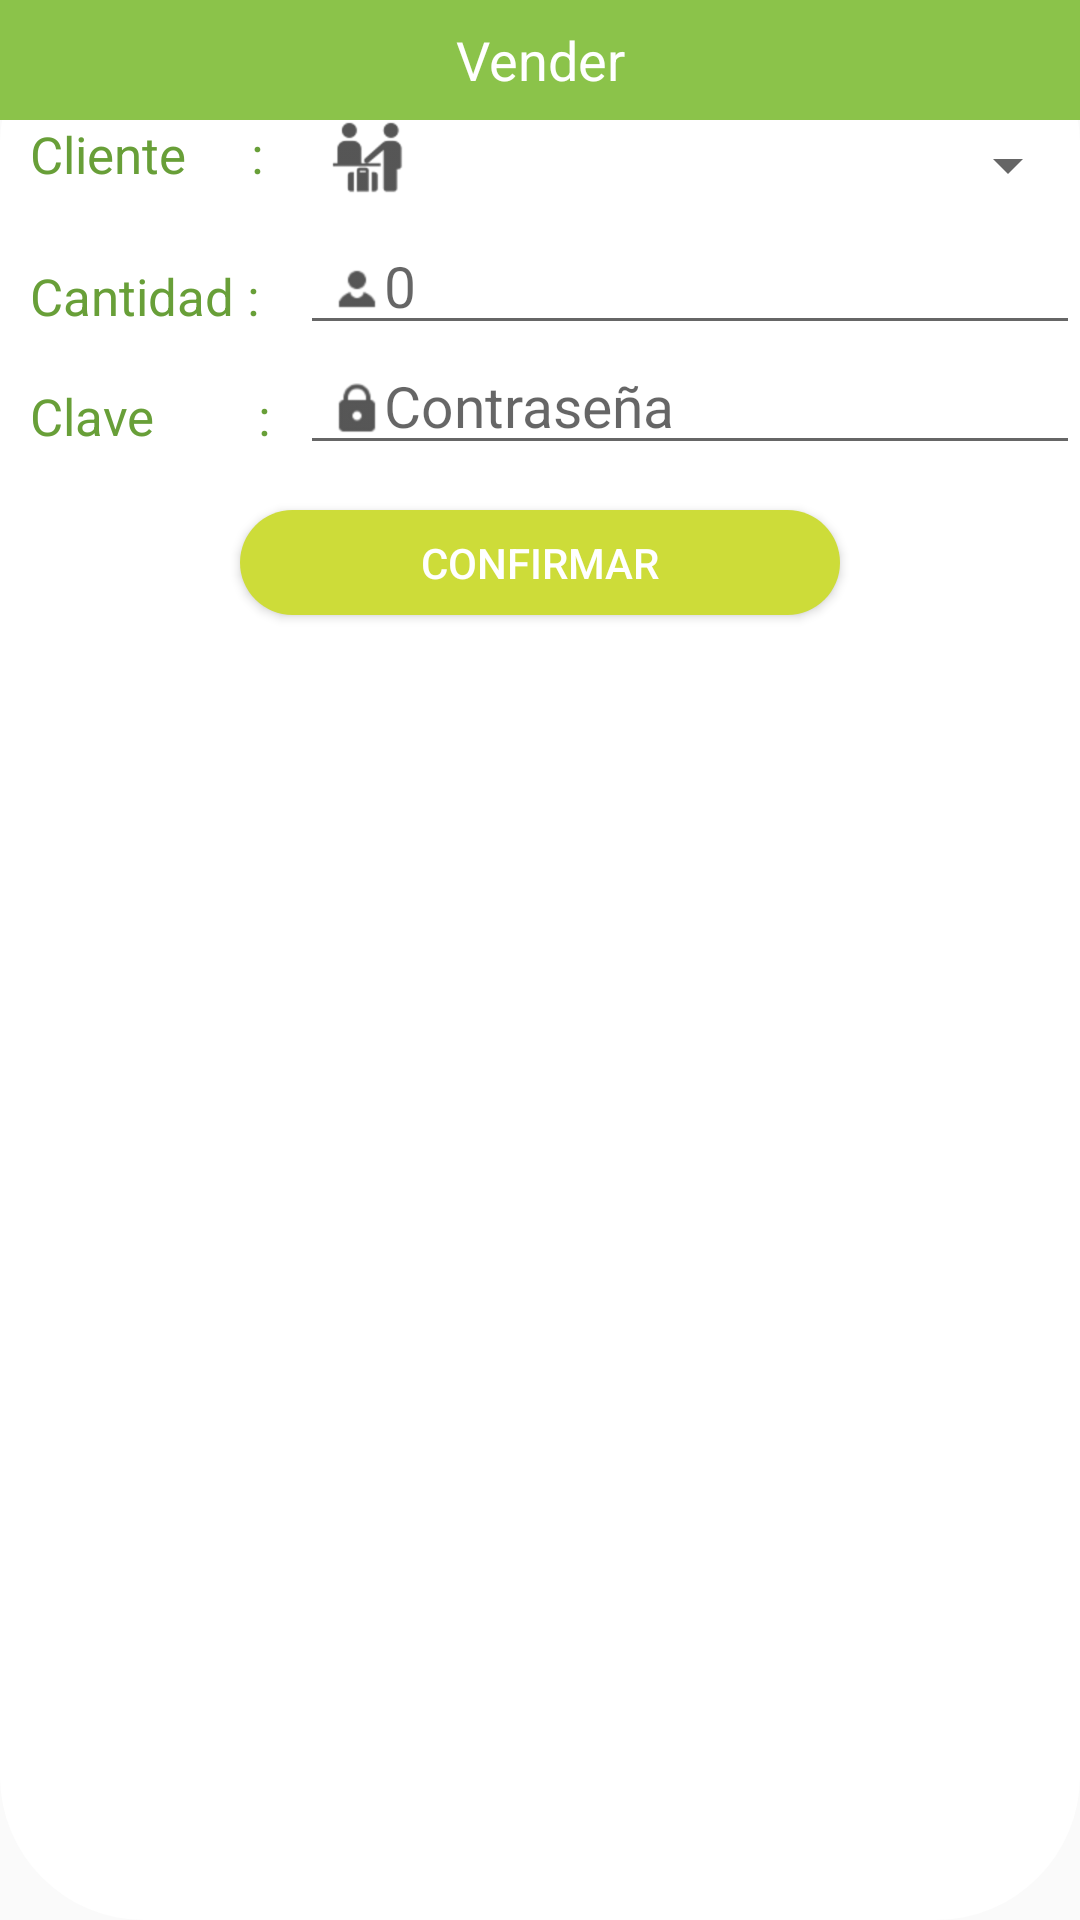

Icons on this 1080*1920 Android screen, each with its box as (x1, y1, x2, y2):
reception: (332, 122, 402, 192)
